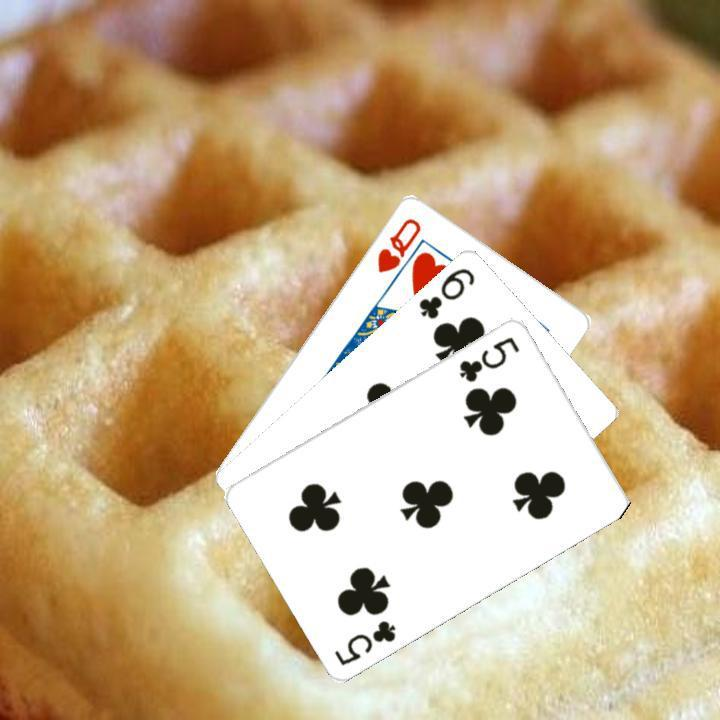5: (455, 331, 522, 384), (330, 615, 398, 667)
6: (414, 262, 477, 321)
Q: (372, 213, 423, 275)
